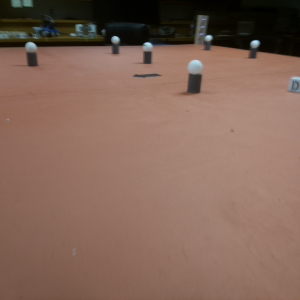blockD: (289, 77, 298, 93)
corner: (196, 16, 206, 46)
obstacle: (189, 60, 203, 93), (25, 42, 38, 66), (143, 42, 152, 62), (250, 39, 258, 59), (113, 36, 120, 52), (205, 35, 212, 49)
start: (133, 71, 160, 79)
